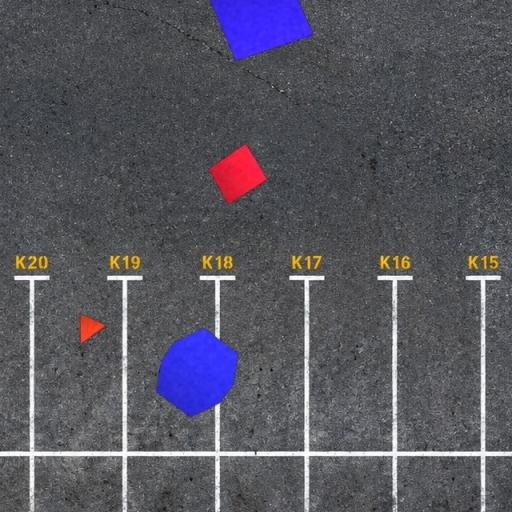BLUE_SQUARE: (200, 0, 314, 62)
RED_SQUARE: (208, 142, 268, 205)
